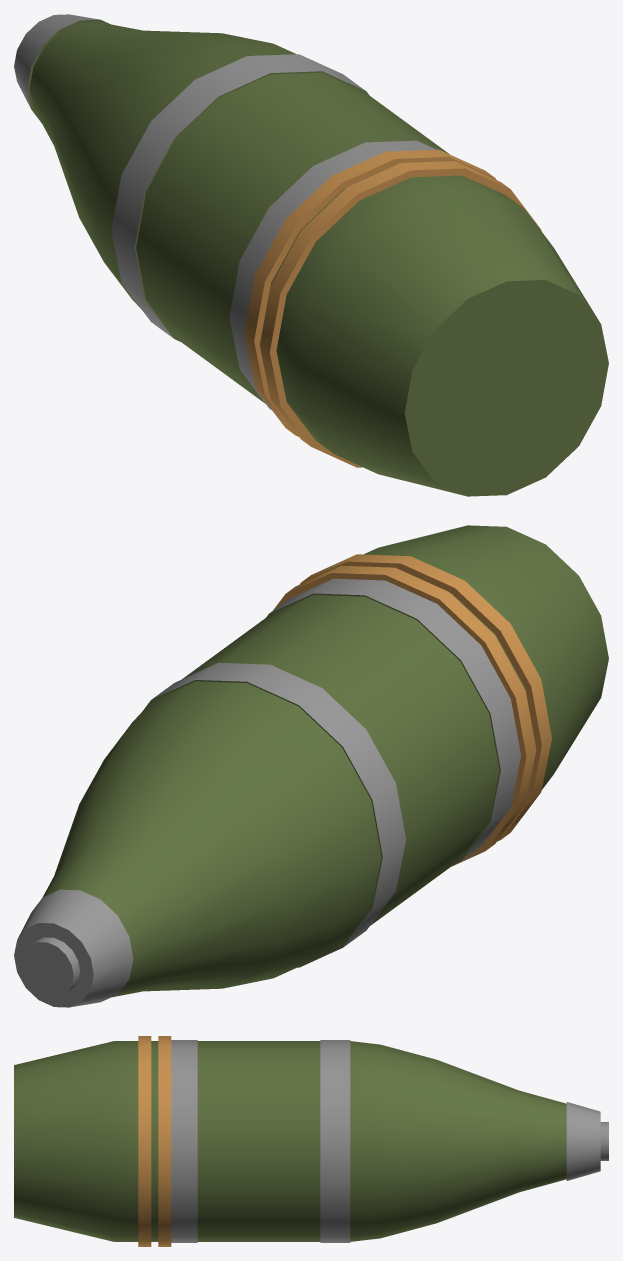
Rendered from he_bullet_122.fbx.
The picture shows the model from 3 angles, top to bottom: view 1: azimuth 30°, elevation 25°; view 2: azimuth 150°, elevation 25°; view 3: azimuth 270°, elevation 25°; orthographic projection. The views are drawn at different scales.
Visible parts, largest first — view 1: Cylinder; view 2: Cylinder; view 3: Cylinder.
Part boxes in pixels (bbox=[...]): Cylinder: bbox=[14, 14, 608, 496]; Cylinder: bbox=[14, 525, 608, 1007]; Cylinder: bbox=[14, 1036, 608, 1246].
Size of the model in its own units: 105 by 105 by 296.
